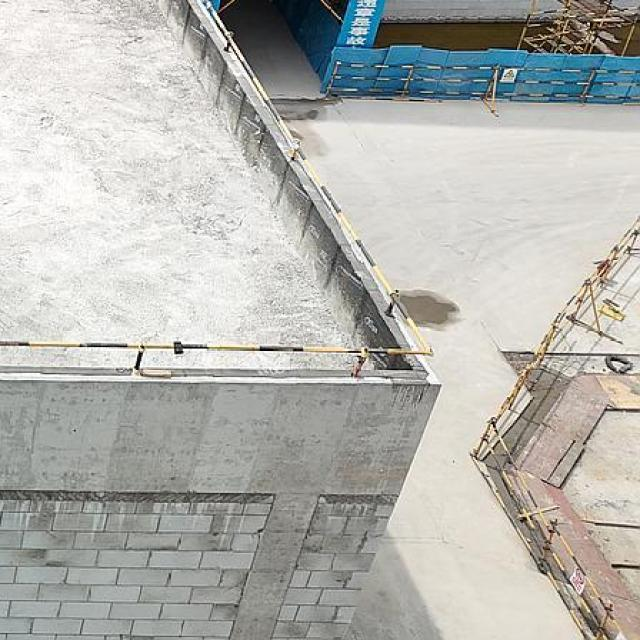edge_guardrail: (0, 1, 439, 378)
